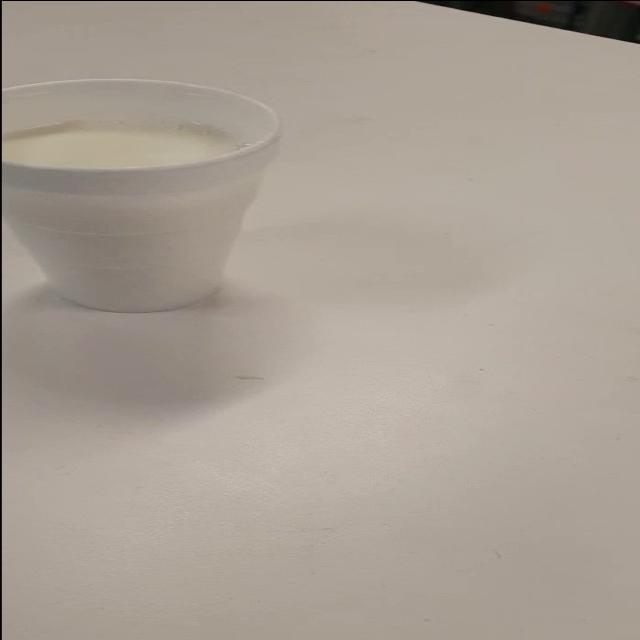Milk: (3, 67, 338, 327)
